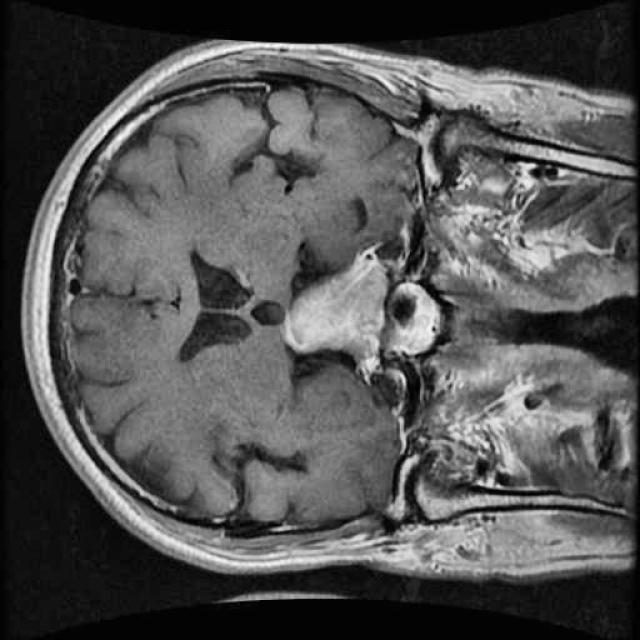Tumor: (268, 236, 399, 382)
